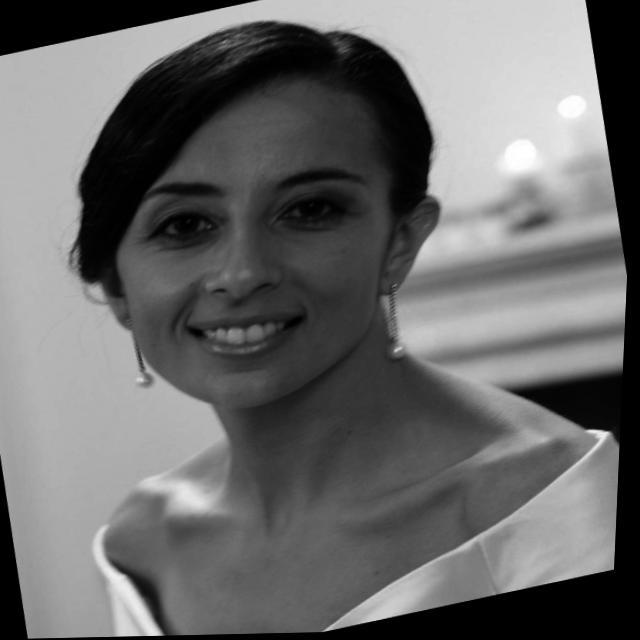Puffy Eyes - v3 Dark Circle: (149, 228, 222, 257), (273, 220, 340, 245)
